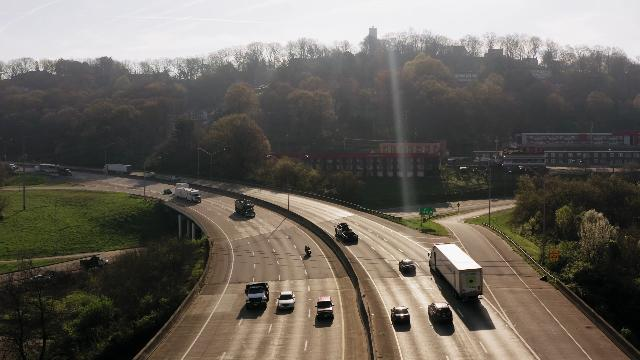car: (428, 302, 454, 325), (315, 295, 334, 324), (391, 306, 412, 326), (277, 290, 296, 312), (398, 258, 417, 277), (59, 168, 72, 176), (169, 175, 180, 181), (147, 172, 156, 178), (10, 165, 19, 171), (163, 189, 173, 194)
motorcycle: (304, 245, 311, 255)
pickup-truck: (333, 222, 360, 247)
truck: (429, 243, 485, 301), (245, 282, 271, 309), (175, 183, 201, 203), (237, 200, 256, 217), (105, 163, 132, 174), (37, 163, 60, 175)
